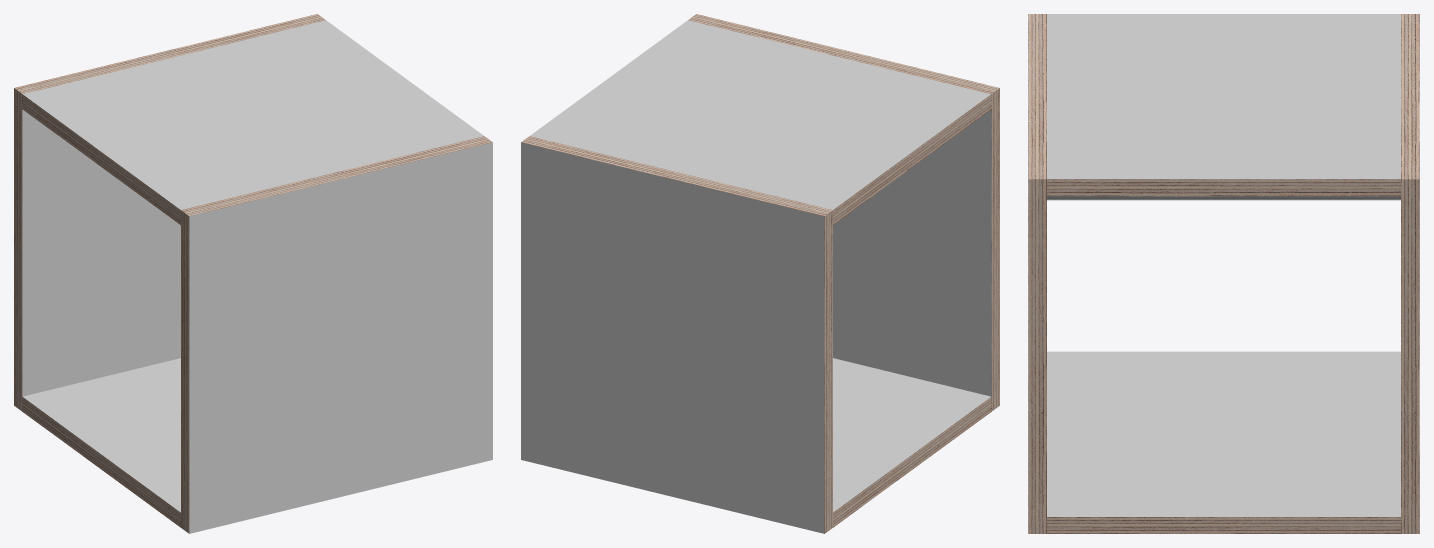
The model's file is Hanger Open.fbx.
The picture shows the model from 3 angles, left to right: view 1: azimuth 30°, elevation 25°; view 2: azimuth 150°, elevation 25°; view 3: azimuth 270°, elevation 25°; orthographic projection. The views are drawn at different scales.
Parts seen in each view (by area): view 1: Open Hanger TL, Open Hanger BL, Open Hanger L, Open Hanger TR, Open Hanger BR, Open Hanger T, Open Hanger R, Open Hanger B; view 2: Open Hanger TR, Open Hanger BR, Open Hanger R, Open Hanger TL, Open Hanger BL, Open Hanger T, Open Hanger L, Open Hanger B; view 3: Open Hanger TL, Open Hanger TR, Open Hanger T, Open Hanger B, Open Hanger BL, Open Hanger BR, Open Hanger L, Open Hanger R.
Part boxes in pixels (bbox=[...]): Open Hanger TL: bbox=[131, 99, 492, 321]; Open Hanger BL: bbox=[131, 354, 492, 533]; Open Hanger L: bbox=[181, 248, 492, 427]; Open Hanger TR: bbox=[14, 14, 375, 199]; Open Hanger BR: bbox=[14, 267, 180, 448]; Open Hanger T: bbox=[72, 57, 433, 188]; Open Hanger R: bbox=[14, 177, 180, 305]; Open Hanger B: bbox=[72, 407, 180, 490]; Open Hanger TR: bbox=[521, 99, 882, 321]; Open Hanger BR: bbox=[521, 354, 882, 533]; Open Hanger R: bbox=[521, 248, 832, 427]; Open Hanger TL: bbox=[638, 14, 999, 199]; Open Hanger BL: bbox=[833, 267, 999, 448]; Open Hanger T: bbox=[580, 57, 941, 188]; Open Hanger L: bbox=[833, 177, 999, 305]; Open Hanger B: bbox=[833, 407, 941, 490]; Open Hanger TL: bbox=[1028, 14, 1158, 297]; Open Hanger TR: bbox=[1289, 14, 1419, 297]; Open Hanger T: bbox=[1158, 14, 1289, 200]; Open Hanger B: bbox=[1158, 351, 1289, 533]; Open Hanger BL: bbox=[1028, 351, 1158, 533]; Open Hanger BR: bbox=[1289, 351, 1419, 533]; Open Hanger L: bbox=[1028, 297, 1046, 415]; Open Hanger R: bbox=[1401, 297, 1419, 415].
Bounding box in the file's own units: 40 × 40.01 × 40.
